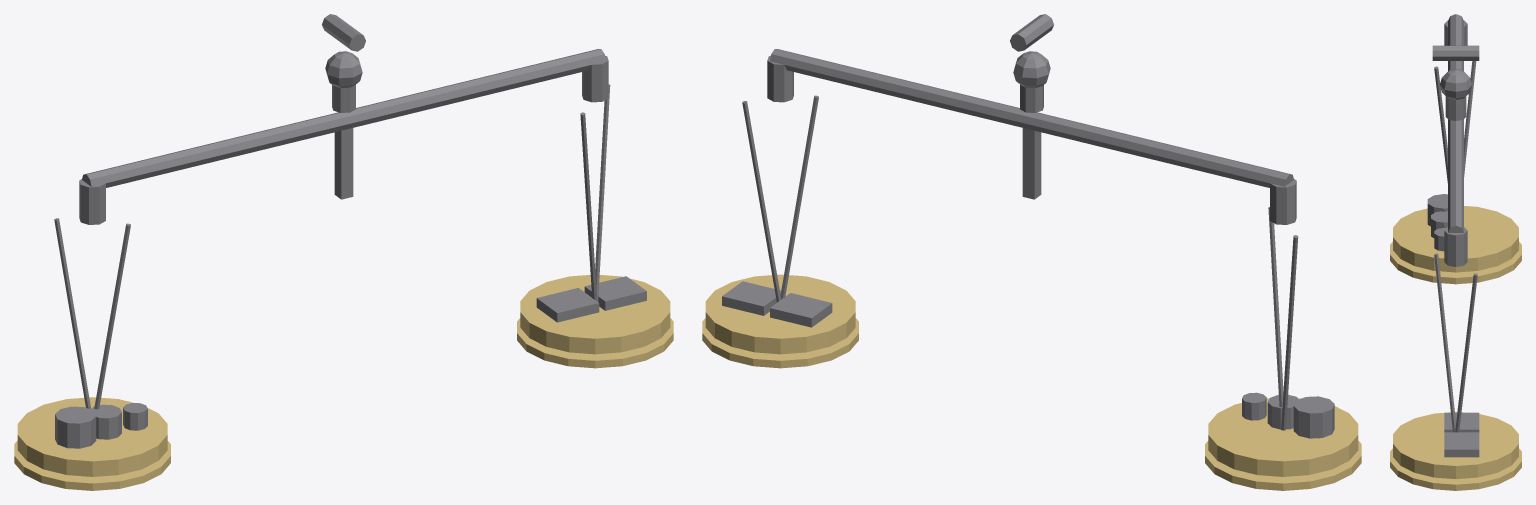
Rendered from balance.glb.
3 renders of one model, left to right at view 1: azimuth 30°, elevation 25°; view 2: azimuth 150°, elevation 25°; view 3: azimuth 270°, elevation 25°, orthographic. The views are drawn at different scales.
Visible parts, largest first — view 1: pan/iron, pan/brass, blacksmith-forge-and-armoury-hanging-scale; view 2: pan/iron, pan/brass, blacksmith-forge-and-armoury-hanging-scale; view 3: pan/brass, pan/iron, blacksmith-forge-and-armoury-hanging-scale.
Boxes of the visible parts, box(x1,y1,x2,y2) form: pan/iron: box(54, 49, 646, 448); pan/brass: box(14, 275, 673, 490); blacksmith-forge-and-armoury-hanging-scale: box(322, 14, 365, 88); pan/iron: box(722, 49, 1334, 438); pan/brass: box(702, 274, 1361, 490); blacksmith-forge-and-armoury-hanging-scale: box(1010, 14, 1053, 88); pan/brass: box(1390, 206, 1521, 490); pan/iron: box(1427, 14, 1479, 457); blacksmith-forge-and-armoury-hanging-scale: box(1432, 45, 1479, 99).
Size of the model in its own units: 1.07 by 0.594 by 0.2265.
